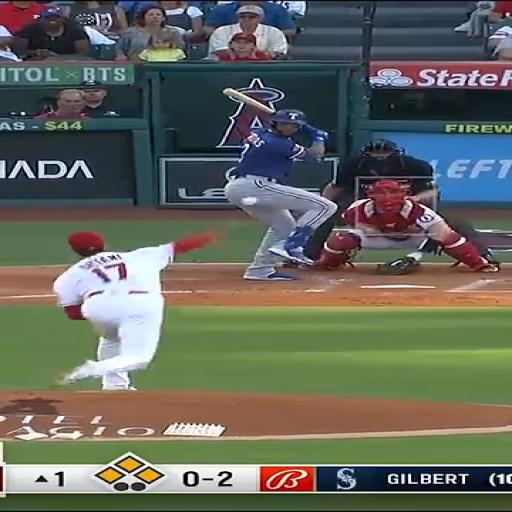bat: (221, 86, 320, 137)
